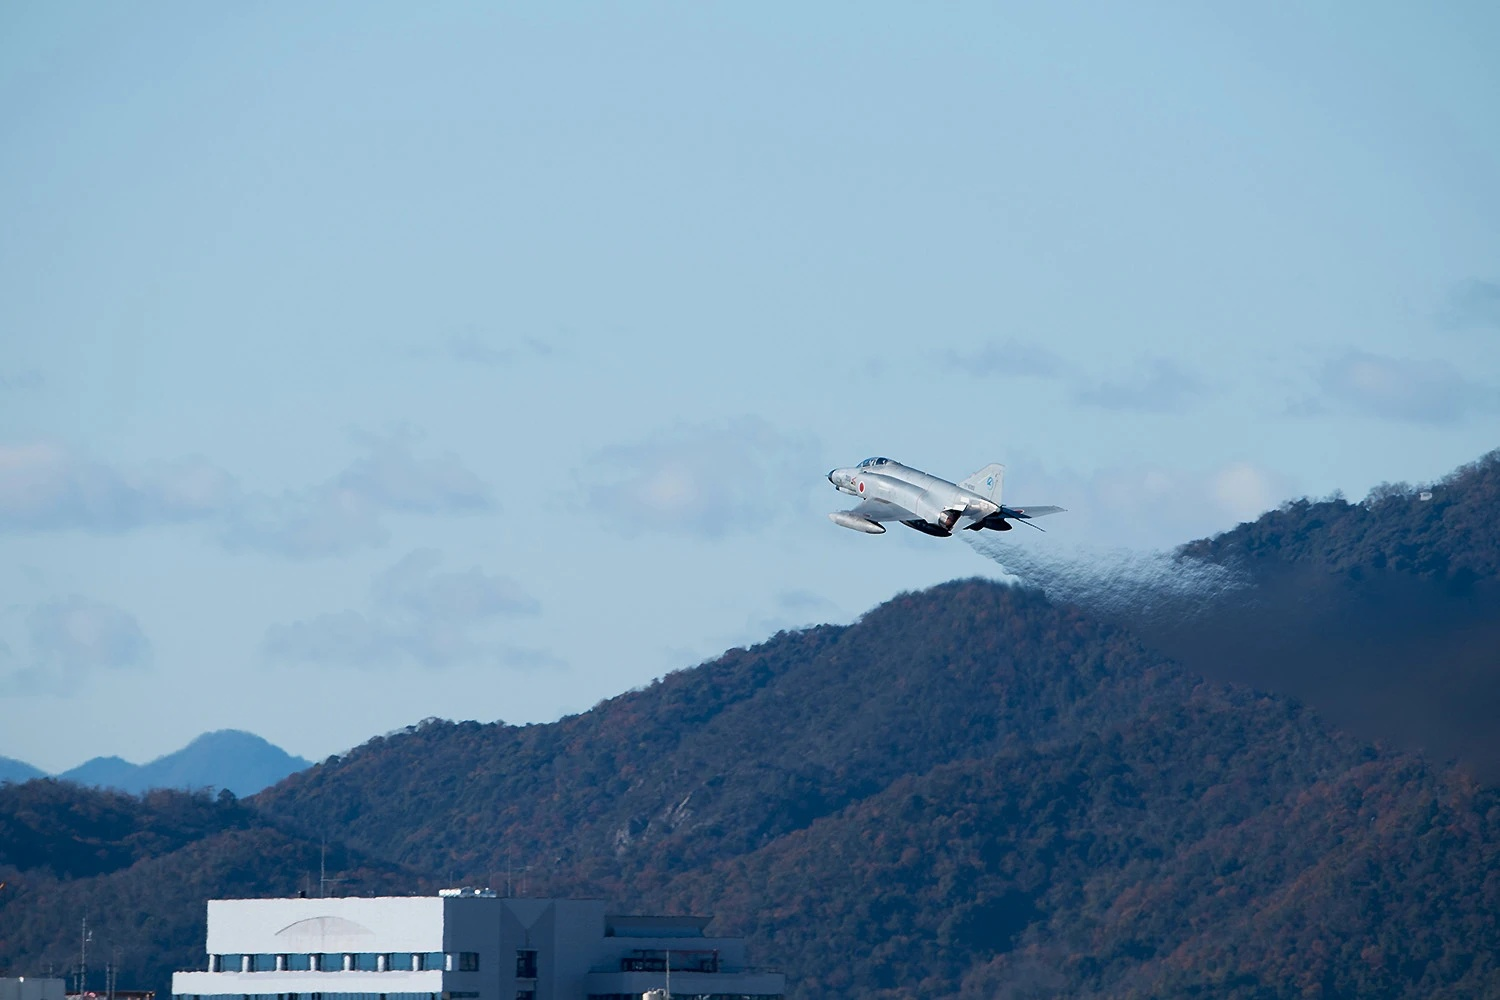F4: (823, 456, 1068, 538)
